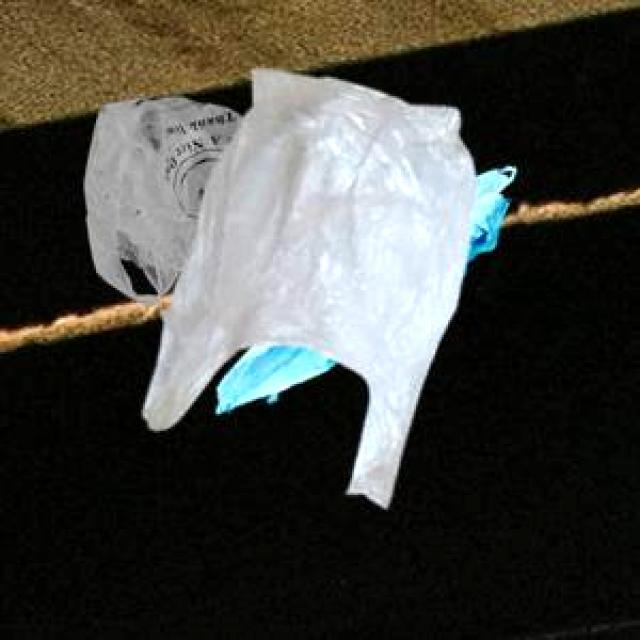Plastic_Bag: (140, 65, 472, 505), (214, 163, 513, 411), (82, 95, 240, 304)
